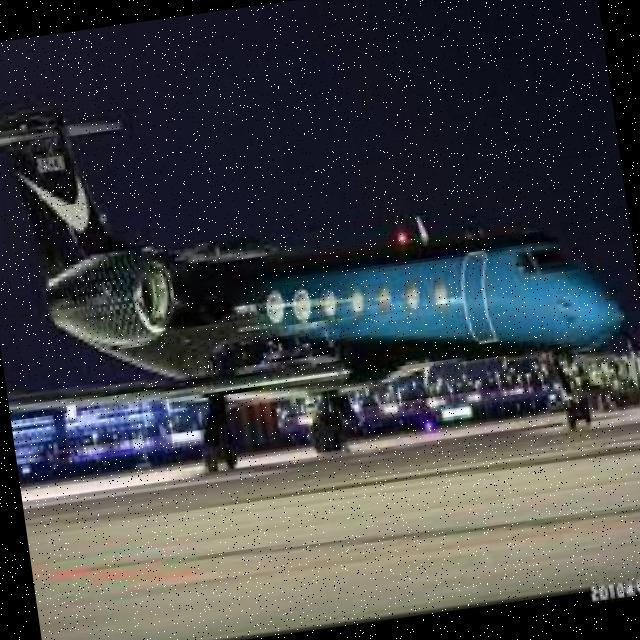Nike: (10, 159, 99, 241)
